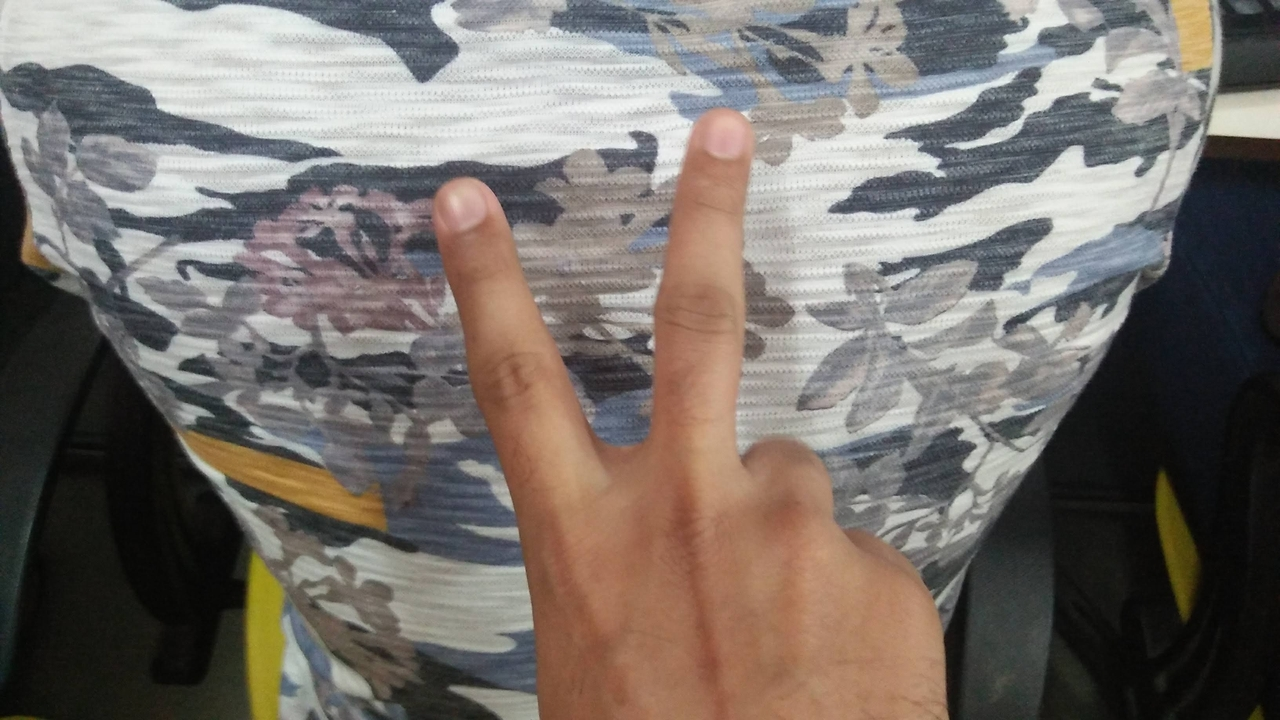fingertip: (424, 172, 500, 244), (684, 102, 758, 170)
